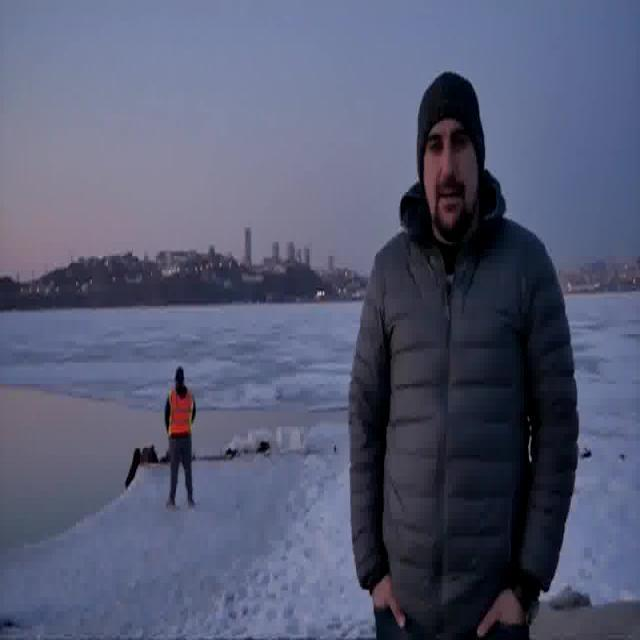no_vest: (335, 214, 586, 610)
vest: (166, 387, 196, 439)
